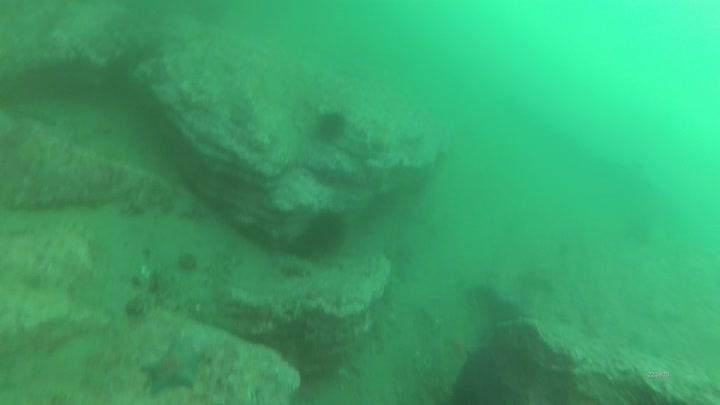echinus: (299, 206, 350, 259), (311, 107, 350, 144)
holothurian: (273, 254, 316, 282)
starfish: (138, 335, 208, 399)
